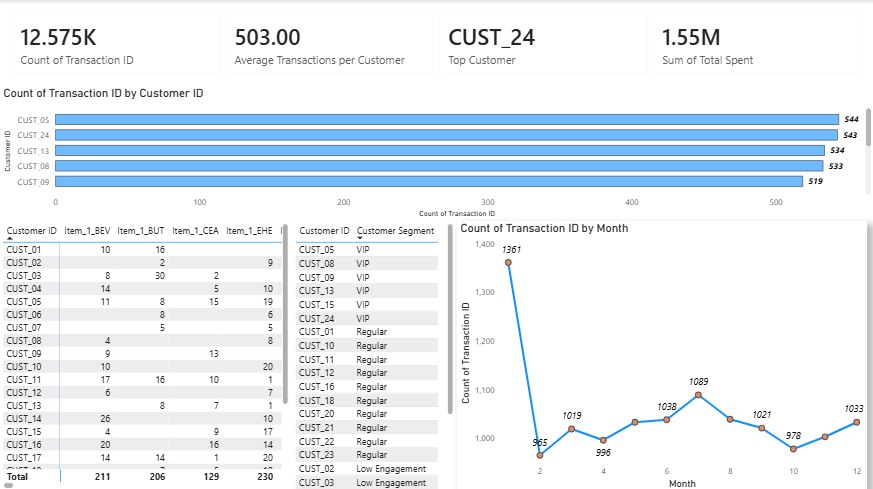

The dashboard page shown, as its layout file describes it:
{"tool":"powerbi","page":{"name":"Customer Insights","canvas":[1280,720],"ordinal":3},"visuals":[{"type":"cardVisual","fields":{"Data":["Count(Retail.Transaction ID)","Retail.Average Transactions per Customer","Retail.Top Customer","Sum(Retail.Total Spent)"]},"box":[0,0,1280.5,125.9],"z":0},{"type":"clusteredBarChart","fields":{"Category":["Retail.Customer ID"],"Y":["CountNonNull(Retail.Transaction ID)"]},"box":[0,126,1280,196.5],"z":1000},{"type":"pivotTable","fields":{"Rows":["Retail.Customer ID"],"Columns":["Retail.Item"],"Values":["Sum(Retail.Quantity)"]},"box":[0,322,427.3,398],"z":2000},{"type":"tableEx","fields":{"Values":["Customer Summary.Customer ID","Customer Summary.Customer Segment"]},"box":[427.3,322,241.5,398],"z":3000},{"type":"lineChart","fields":{"Category":["Retail.Month"],"Y":["CountNonNull(Retail.Transaction ID)"]},"box":[668.8,323.4,600,396.6],"z":4000}]}

Visuals, with their boxes in screenshot pixels (x1, y1, x2, y2), scaled from the page's 1280x720 canvas onto the 873x489 screenshot:
cardVisual - Count(Retail.Transaction ID) x Retail.Average Transactions per Customer: rect(0, 0, 872, 86)
clusteredBarChart - Retail.Customer ID x CountNonNull(Retail.Transaction ID): rect(0, 86, 872, 219)
pivotTable - Retail.Customer ID x Retail.Item: rect(0, 219, 291, 488)
tableEx - Customer Summary.Customer ID x Customer Summary.Customer Segment: rect(291, 219, 456, 488)
lineChart - Retail.Month x CountNonNull(Retail.Transaction ID): rect(456, 220, 865, 488)
